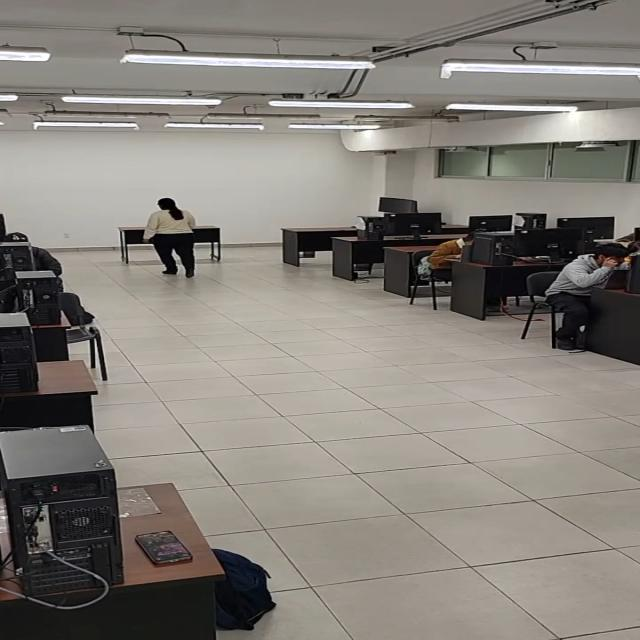Persona: (140, 194, 202, 284)
